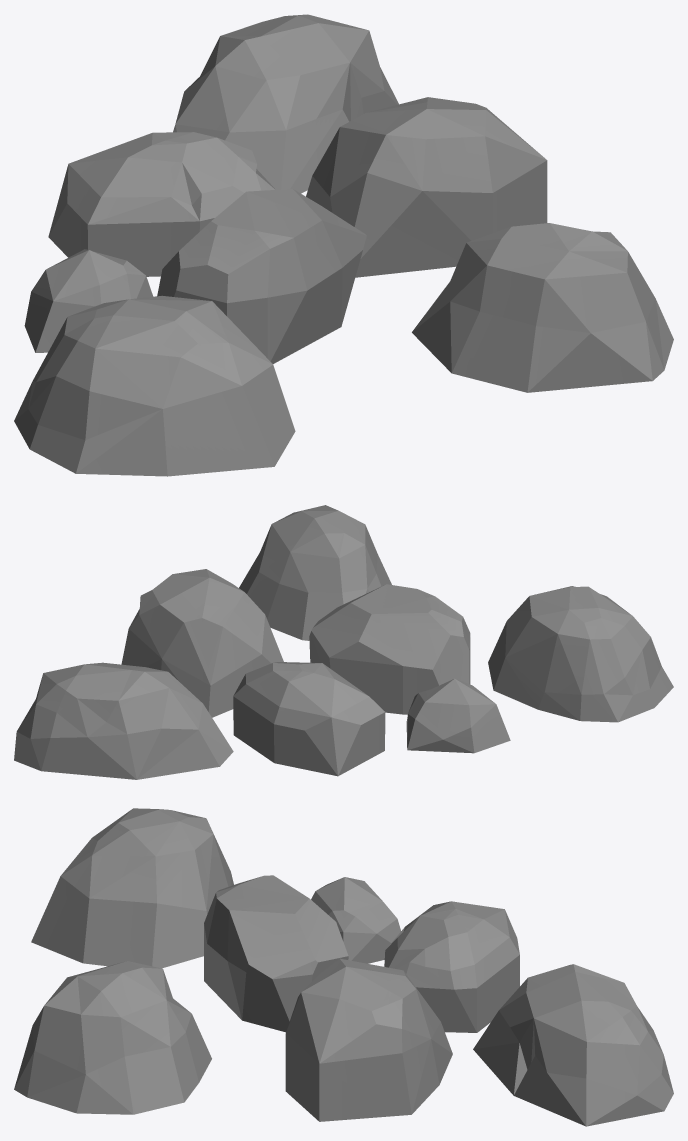
Rendered from Pebbles2.obj.
The picture shows the model from 3 angles, top to bottom: view 1: azimuth 30°, elevation 25°; view 2: azimuth 150°, elevation 25°; view 3: azimuth 270°, elevation 25°; orthographic projection. The views are drawn at different scales.
Parts seen in each view (by area): view 1: PP_Cemetery_Pebbles_03; view 2: PP_Cemetery_Pebbles_03; view 3: PP_Cemetery_Pebbles_03.
Part boxes in pixels (x1,y1,x2,y2): PP_Cemetery_Pebbles_03: [14, 14, 673, 476]; PP_Cemetery_Pebbles_03: [14, 505, 673, 779]; PP_Cemetery_Pebbles_03: [14, 808, 673, 1126].
Bounding box in the file's own units: 0.2602 × 0.0545 × 0.2847.
Materials: 1 (1 with a texture image).
